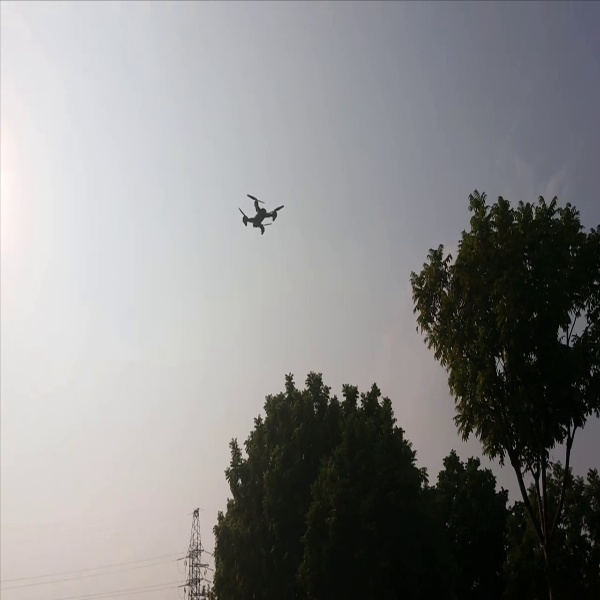drone: (233, 185, 290, 240)
